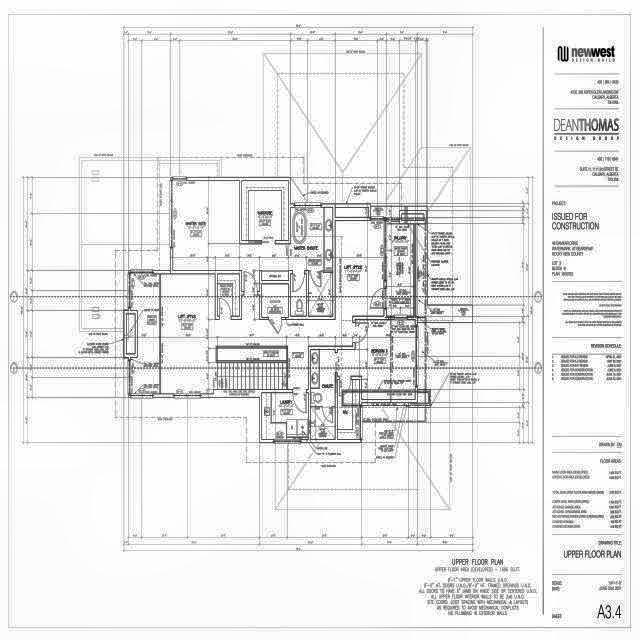room: (173, 181, 333, 292), (337, 320, 415, 399), (242, 181, 288, 240), (311, 350, 335, 439), (262, 393, 308, 439), (337, 380, 359, 439), (309, 273, 333, 316), (217, 274, 239, 316), (262, 284, 288, 317), (291, 274, 306, 316)
